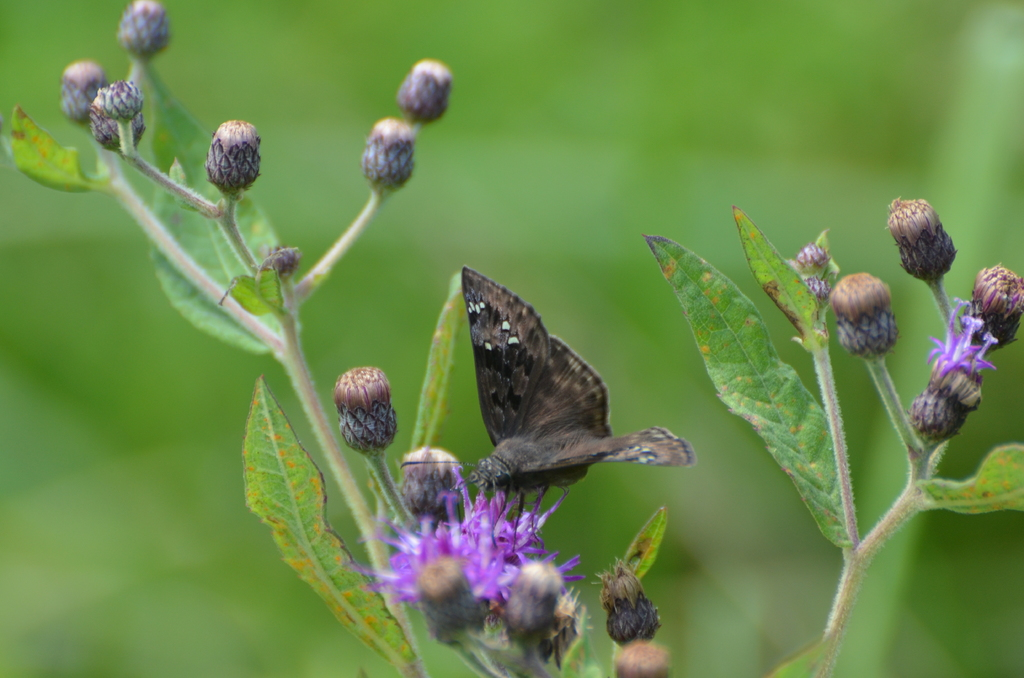Butterfly: (453, 259, 698, 511)
